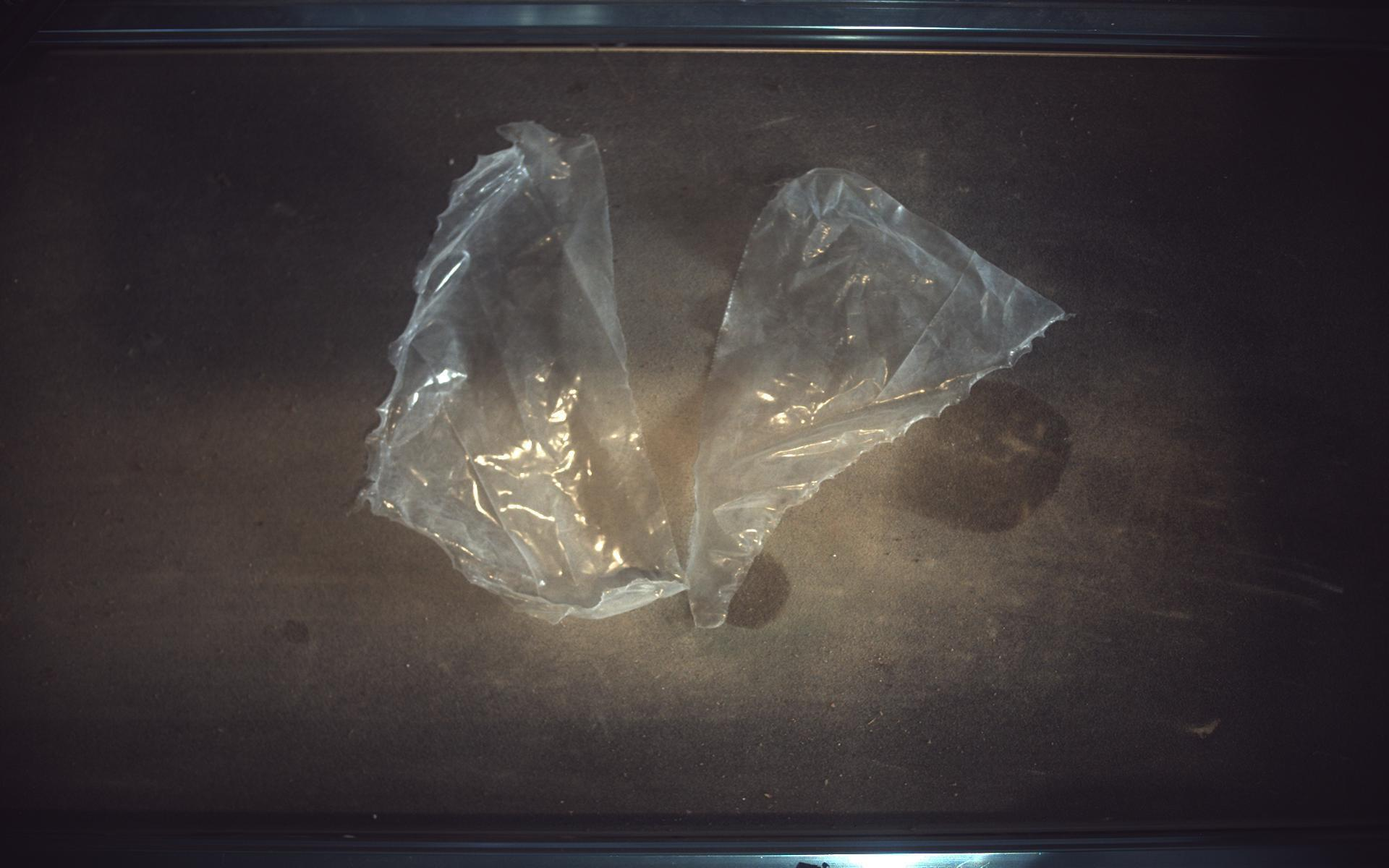general_w: (688, 167, 1067, 629), (360, 121, 687, 624)
